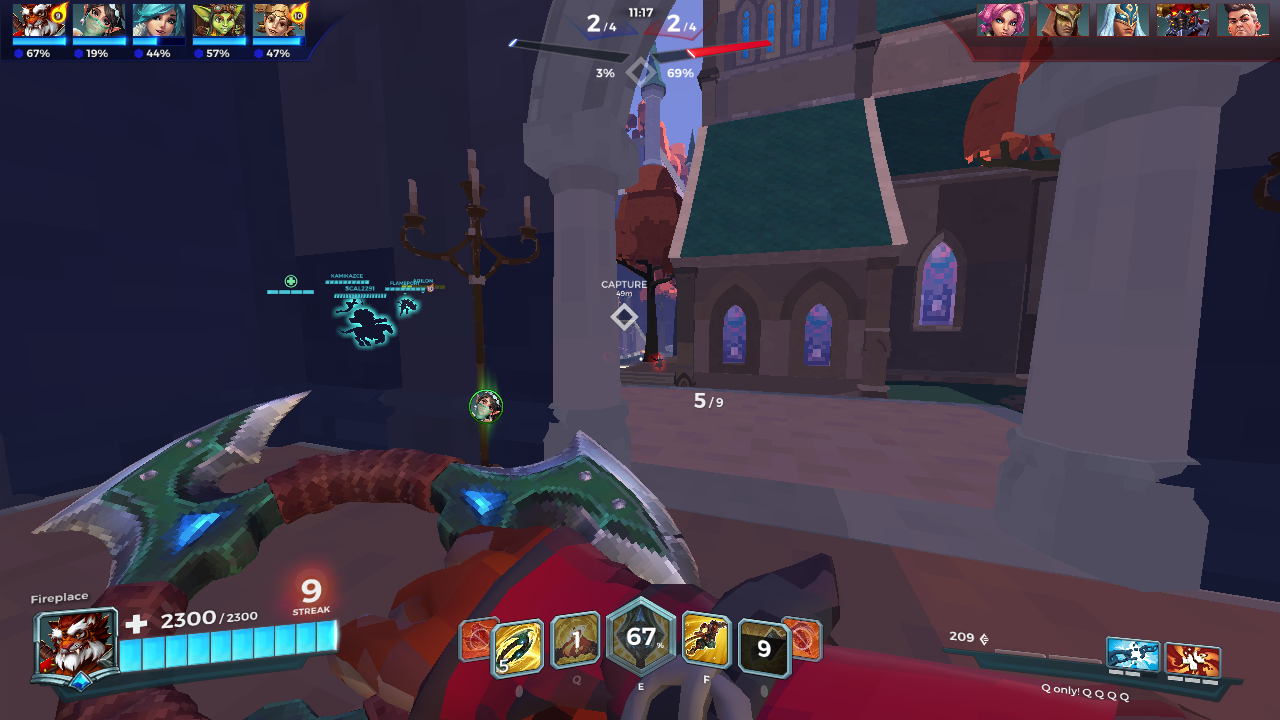model: (652, 354, 666, 375)
